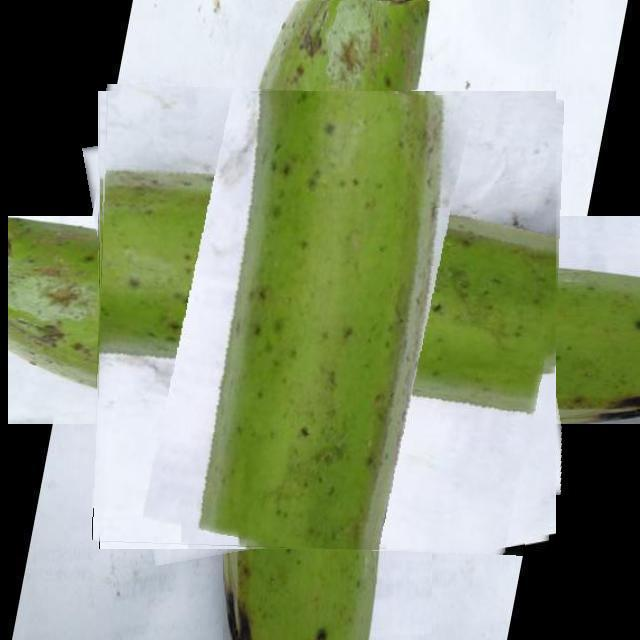Verde: (95, 88, 560, 553)
